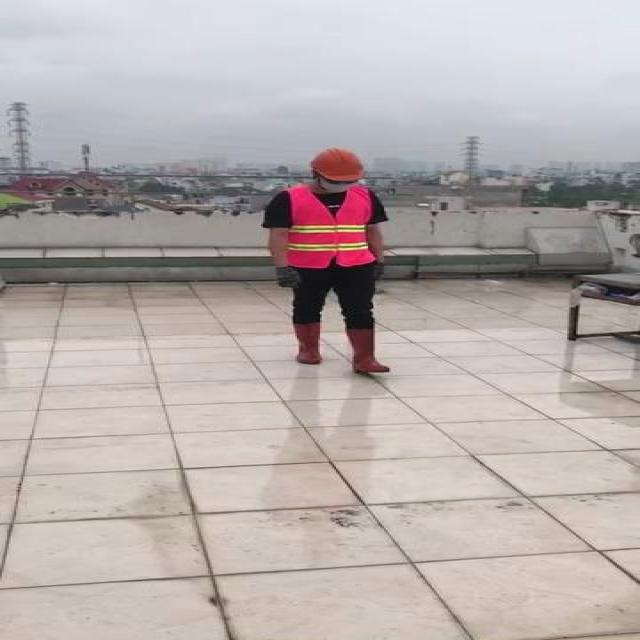boots: (345, 325, 393, 374), (293, 319, 327, 365)
face_mask: (316, 176, 358, 193)
hand_glove: (274, 268, 302, 288), (372, 260, 391, 285)
head_helmet: (307, 148, 367, 185)
person: (258, 142, 409, 382)
vest: (283, 186, 373, 266)
